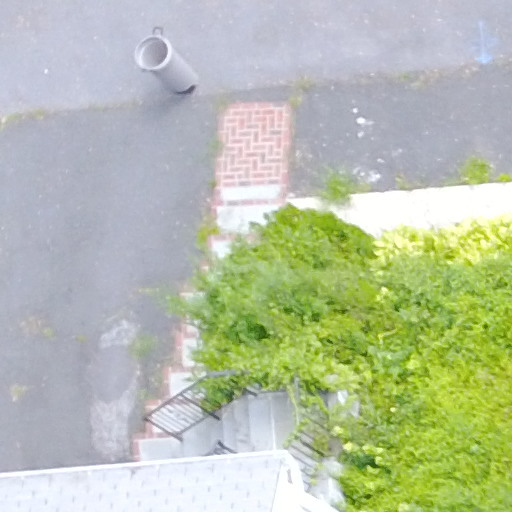trash bin: (132, 19, 212, 101)
